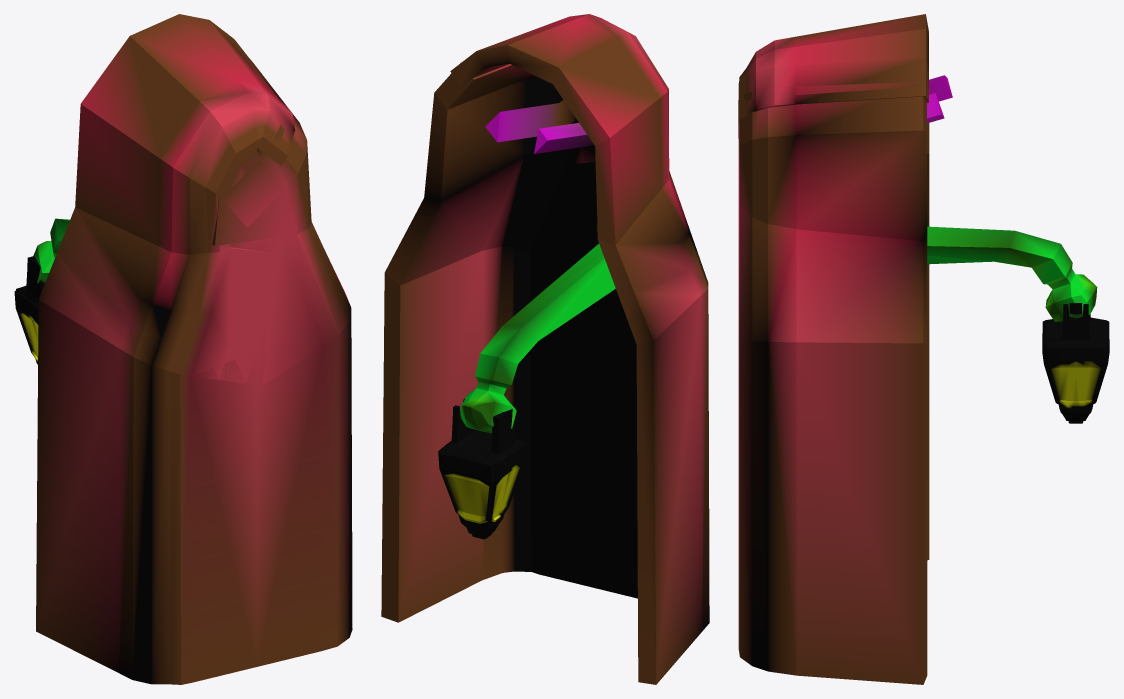
File: MainCharacter.fbx
3 views of the same model, side by side, from view 1: azimuth 30°, elevation 25°; view 2: azimuth 150°, elevation 25°; view 3: azimuth 270°, elevation 25° (orthographic). The views are drawn at different scales.
Parts seen in each view (by area): view 1: Cube; view 2: Cube; view 3: Cube.
Part boxes in pixels (left/top/right/bottom): Cube: left=14, top=14, right=352, bottom=684; Cube: left=381, top=14, right=709, bottom=684; Cube: left=738, top=14, right=1109, bottom=684.
Size of the model in its own units: 248 by 519 by 293.
